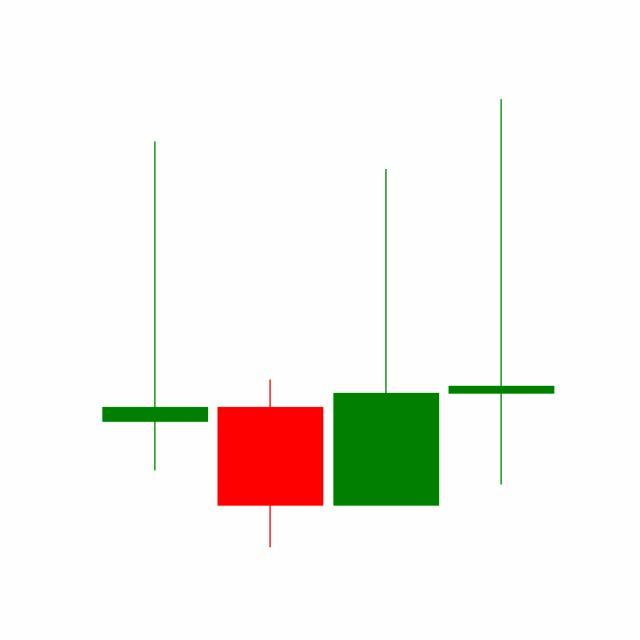Spinning Top: (444, 96, 560, 490)
